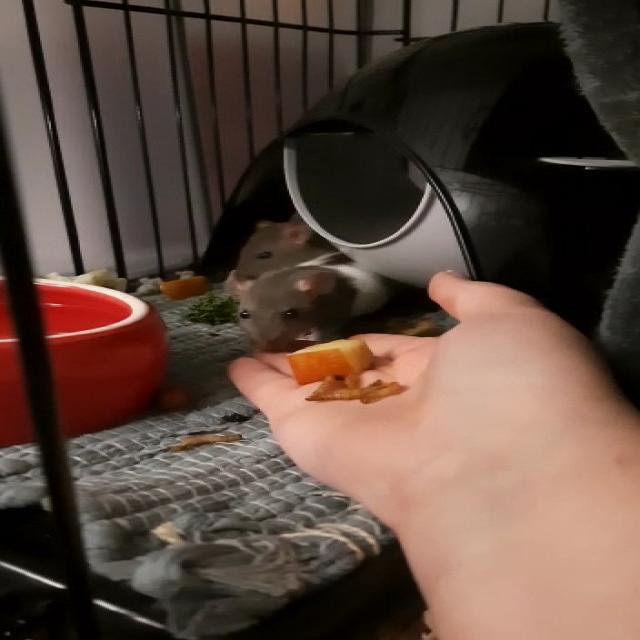rat: (242, 252, 398, 344), (227, 213, 367, 287)
